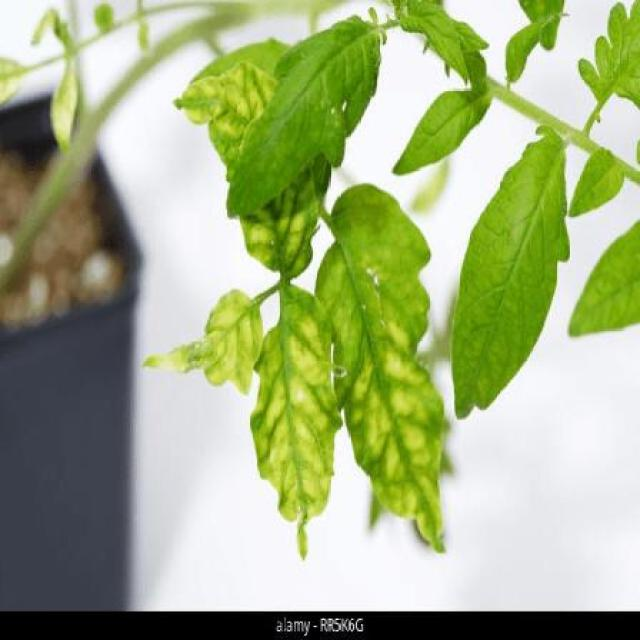Healthy: (449, 116, 574, 420), (226, 13, 381, 216), (389, 74, 494, 176)
Mosaic Virus: (311, 177, 449, 562), (169, 57, 320, 277), (249, 280, 344, 563), (138, 282, 265, 394)
